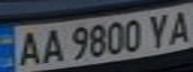0: (121, 16, 148, 53), (106, 19, 127, 55)
8: (87, 20, 109, 57)
9: (66, 22, 90, 61)
A: (12, 28, 45, 69), (36, 26, 66, 65), (163, 7, 193, 45)
Y: (142, 10, 175, 48)
